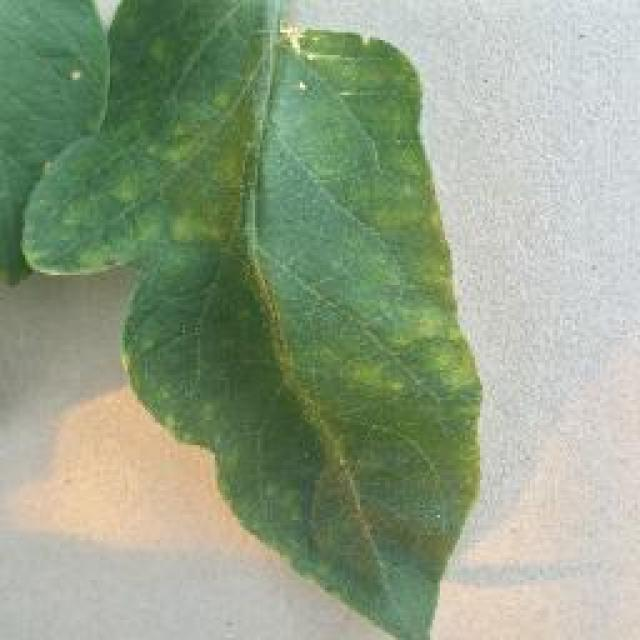Tomato___Late_blight: (0, 0, 478, 638)
